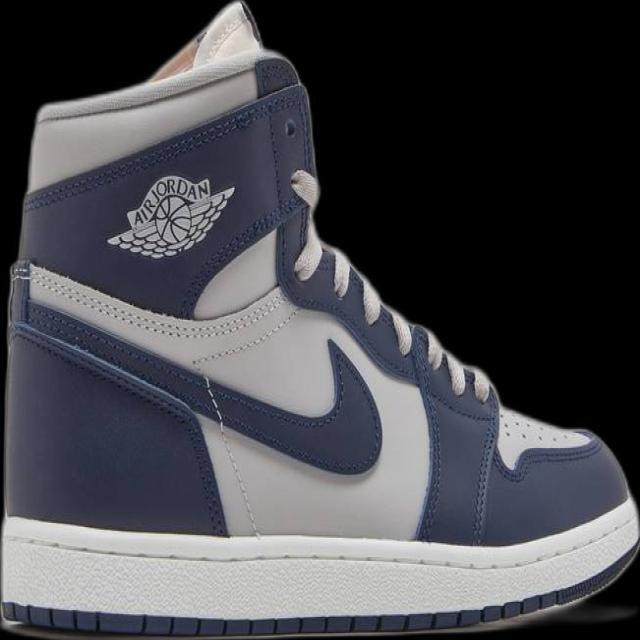J1_InsoleChar: (0, 0, 639, 639)
J1_ShoeLogo: (105, 173, 236, 260)
J1_StitchPattern: (14, 249, 597, 475), (285, 165, 597, 471), (19, 258, 275, 540), (1, 565, 636, 638), (321, 242, 493, 403), (25, 262, 288, 341), (1, 599, 539, 637), (197, 371, 265, 540), (466, 406, 500, 546), (496, 403, 591, 451), (287, 166, 324, 282)
